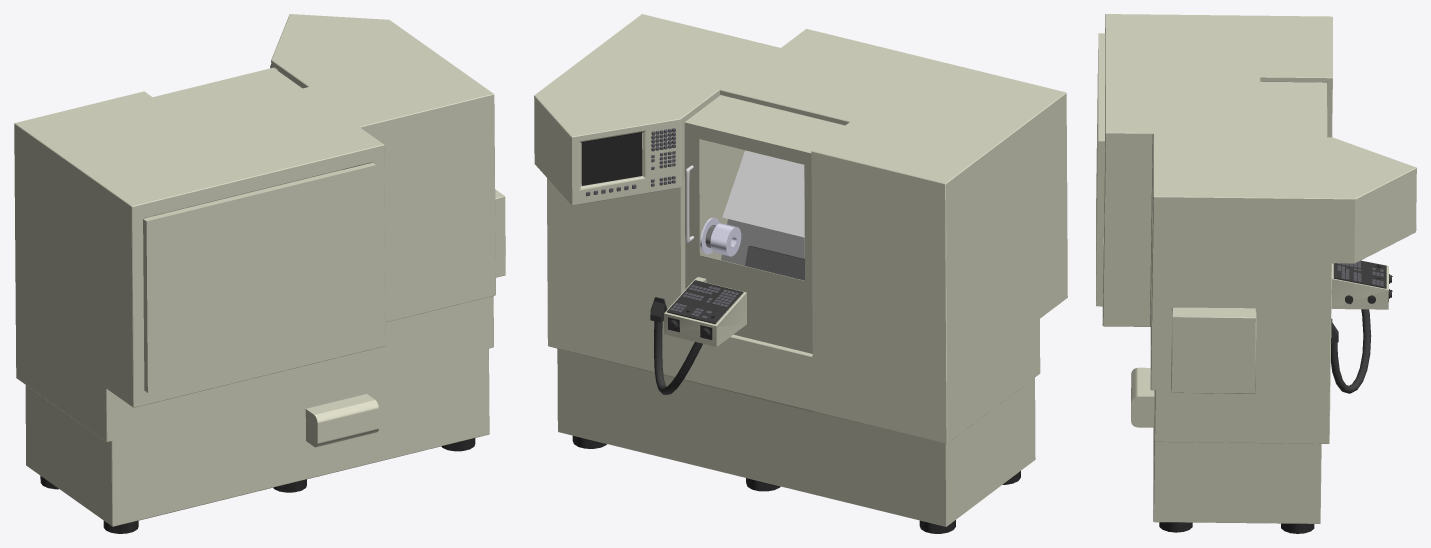
The model's file is realmeca-tour.glb.
3 renders of one model, left to right at view 1: azimuth 30°, elevation 25°; view 2: azimuth 150°, elevation 25°; view 3: azimuth 270°, elevation 25°, orthographic. The views are drawn at different scales.
Visible parts, largest first — view 1: Batis, porte arrière, porte, moteur arrière, Pied, Body.4; view 2: Batis, porte, première pente (gris), partie gauche, deuxième pente (blanc), première pente (blanc), barre en métal, BezierCurve, Pied, pose pièce(3); view 3: Batis, Body.4, porte, porte arrière, moteur arrière, BezierCurve, Pied.
Part boxes in pixels (x1=…): Batis: x1=14, y1=14, x2=495, y2=526; porte arrière: x1=143, y1=162, x2=377, y2=392; porte: x1=153, y1=67, x2=302, y2=117; moteur arrière: x1=305, y1=394, x2=378, y2=447; Pied: x1=40, y1=438, x2=475, y2=533; Body.4: x1=495, y1=189, x2=505, y2=277; Batis: x1=534, y1=14, x2=1067, y2=526; porte: x1=664, y1=95, x2=844, y2=353; première pente (gris): x1=741, y1=155, x2=804, y2=237; partie gauche: x1=683, y1=94, x2=744, y2=290; deuxième pente (blanc): x1=721, y1=219, x2=804, y2=265; première pente (blanc): x1=722, y1=150, x2=763, y2=221; barre en métal: x1=745, y1=246, x2=804, y2=280; BezierCurve: x1=654, y1=321, x2=702, y2=394; Pied: x1=572, y1=436, x2=1020, y2=533; pose pièce(3): x1=710, y1=223, x2=741, y2=256; Batis: x1=1102, y1=14, x2=1416, y2=523; Body.4: x1=1171, y1=307, x2=1256, y2=393; porte: x1=1260, y1=81, x2=1388, y2=309; porte arrière: x1=1096, y1=33, x2=1105, y2=306; moteur arrière: x1=1131, y1=367, x2=1154, y2=427; BezierCurve: x1=1331, y1=309, x2=1371, y2=393; Pied: x1=1159, y1=522, x2=1314, y2=533.
Size of the model in its own units: 2 by 1.66 by 1.41.
